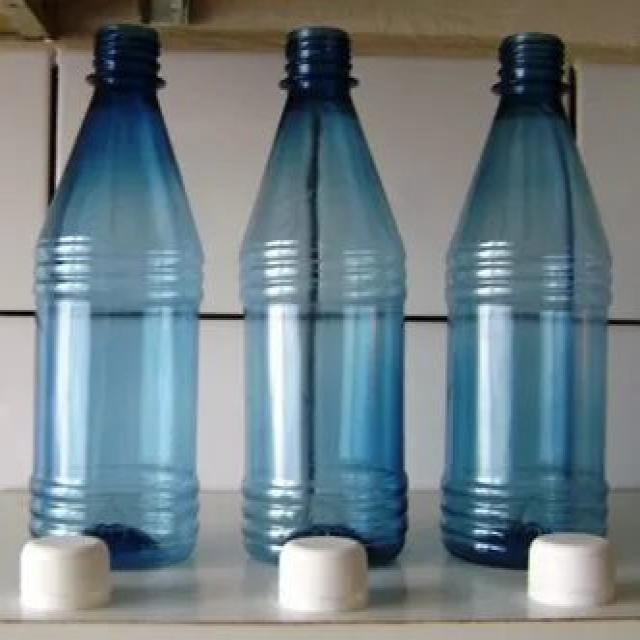blue: (36, 25, 200, 570), (243, 27, 408, 568), (447, 31, 610, 566)
